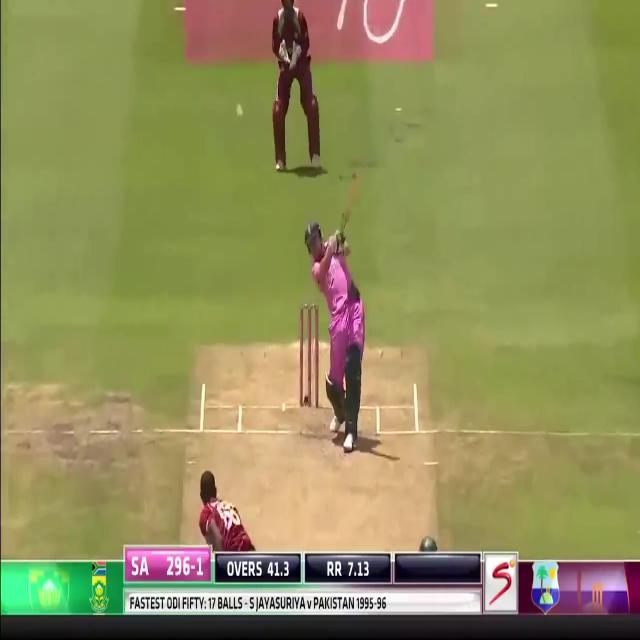Ball: (303, 220, 366, 450)
Fielder: (272, 1, 321, 175), (196, 471, 255, 553)
